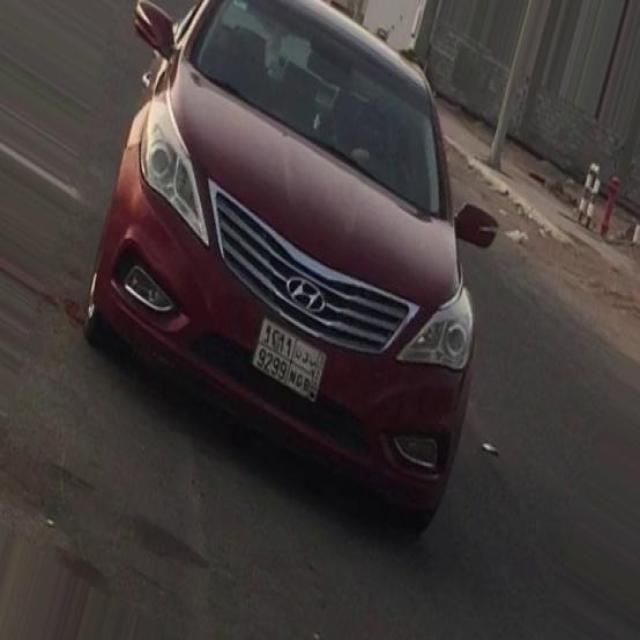Car-plate: (238, 307, 341, 427)
